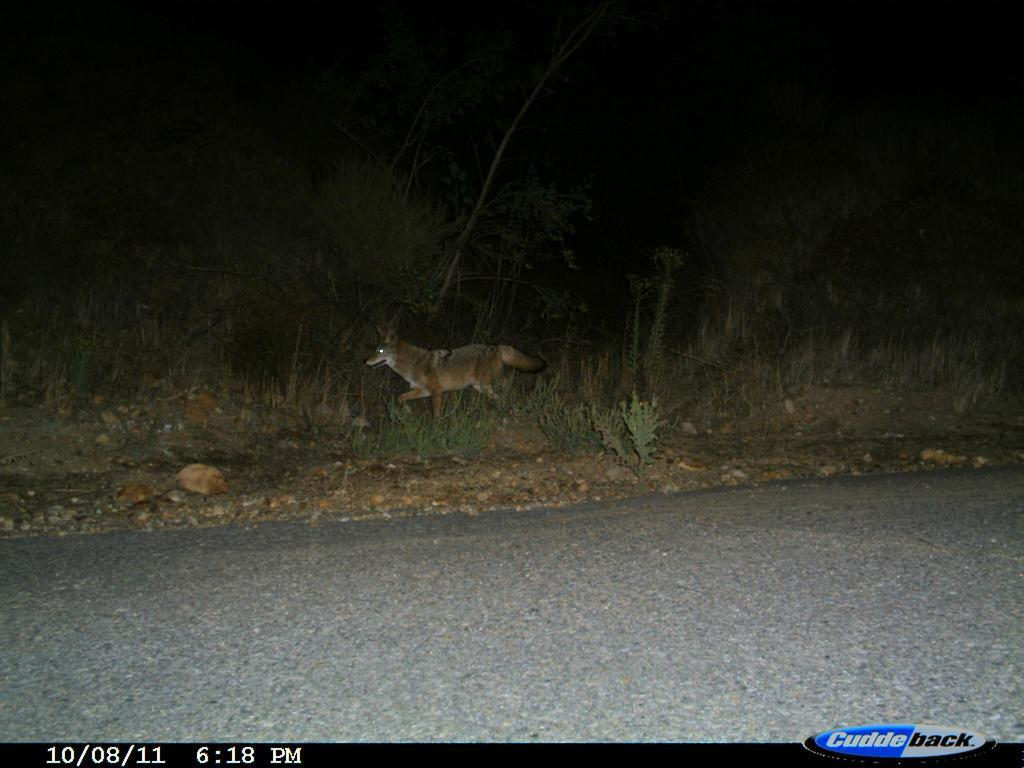coyote: (365, 326, 550, 427)
